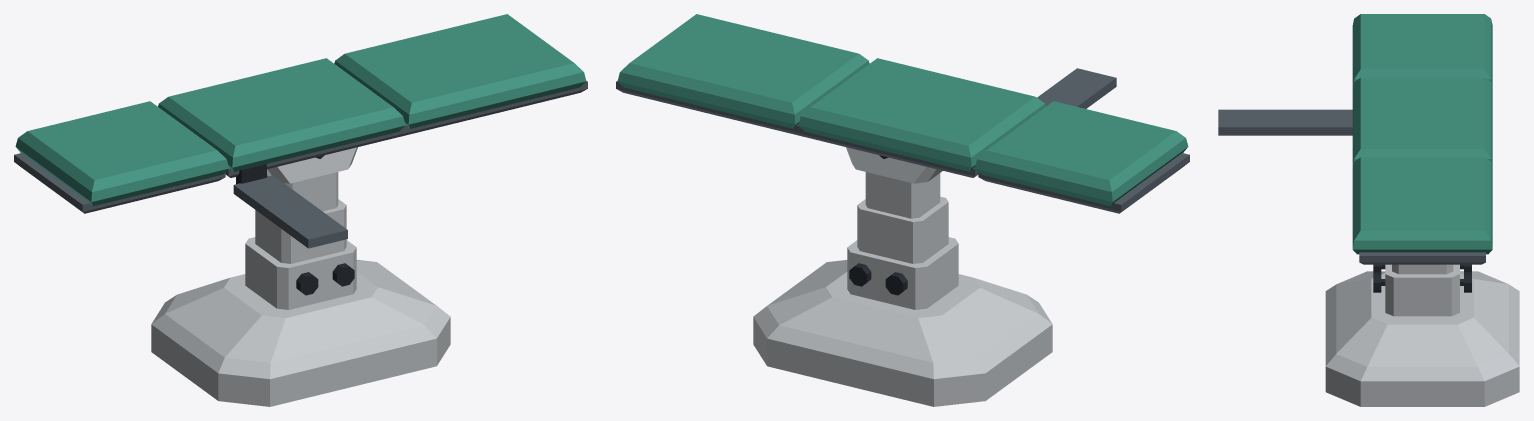
Rendered from operating-table-af1a83.glb.
3 views of the same model, side by side, from view 1: azimuth 30°, elevation 25°; view 2: azimuth 150°, elevation 25°; view 3: azimuth 270°, elevation 25° (orthographic). The views are drawn at different scales.
Visible parts, largest first — view 1: deck, operating-table, head-plate; view 2: operating-table, deck, head-plate; view 3: deck, operating-table, head-plate.
Boxes of the visible parts, x1,y1,x2,y2 form: deck: (158, 14, 587, 248); operating-table: (151, 147, 450, 406); head-plate: (14, 101, 229, 213); operating-table: (753, 147, 1052, 406); deck: (616, 14, 1116, 177); head-plate: (974, 101, 1189, 213); deck: (1218, 77, 1492, 264); operating-table: (1325, 264, 1519, 406); head-plate: (1352, 14, 1492, 87).
Bounding box in the file's own units: 2 × 0.95 × 1.12.
